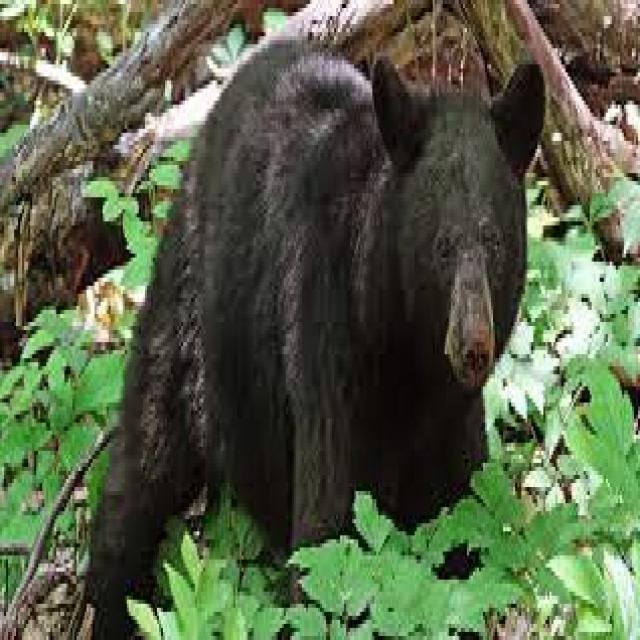bear: (91, 32, 545, 636)
